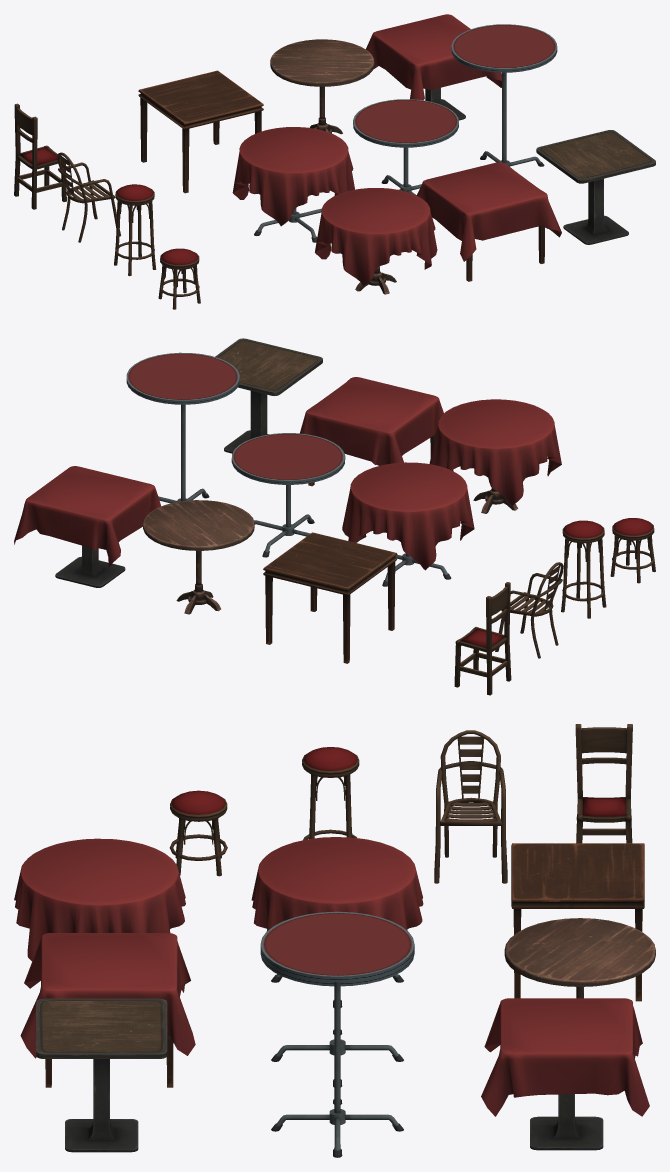
File: furniture_pack.glb
The picture shows the model from 3 angles, top to bottom: view 1: azimuth 30°, elevation 25°; view 2: azimuth 150°, elevation 25°; view 3: azimuth 270°, elevation 25°; orthographic projection. The views are drawn at different scales.
Visible parts, largest first — view 1: round_metal_table_cloth.smd_1, round_wooden_table_cloth.smd_4, square_wooden_table_cloth.smd_8, square_steel_table_cloth.smd_6, square_steel_table.smd_5, square_wooden_table.smd_7, round_metal_table_high.smd_2, round_metal_table.smd_0, round_wooden_table.smd_3, restaurant_chair.smd_9, restaurant_stool.smd_11, restaurant_chair01.smd_10 (+1 smaller); view 2: square_steel_table_cloth.smd_6, round_metal_table_cloth.smd_1, round_wooden_table_cloth.smd_4, square_wooden_table_cloth.smd_8, square_wooden_table.smd_7, round_metal_table.smd_0, round_metal_table_high.smd_2, round_wooden_table.smd_3, square_steel_table.smd_5, restaurant_chair.smd_9, restaurant_stool.smd_11, restaurant_chair01.smd_10 (+1 smaller); view 3: square_steel_table_cloth.smd_6, round_wooden_table_cloth.smd_4, round_metal_table_cloth.smd_1, square_wooden_table_cloth.smd_8, square_steel_table.smd_5, round_metal_table_high.smd_2, square_wooden_table.smd_7, round_wooden_table.smd_3, restaurant_chair01.smd_10, restaurant_chair.smd_9, restaurant_stool_short.smd_12, restaurant_stool.smd_11 (+1 smaller).
Part boxes in pixels (x1,y1,x2,y2): round_metal_table_cloth.smd_1: (232,127,354,242); round_wooden_table_cloth.smd_4: (315,188,437,294); square_wooden_table_cloth.smd_8: (416,162,561,281); square_steel_table_cloth.smd_6: (365,14,501,120); square_steel_table.smd_5: (536,130,655,244); square_wooden_table.smd_7: (138,70,263,193); round_metal_table_high.smd_2: (451,24,557,166); round_metal_table.smd_0: (353,99,458,195); round_wooden_table.smd_3: (270,39,374,134); restaurant_chair.smd_9: (14,103,66,209); restaurant_stool.smd_11: (114,184,156,276); restaurant_chair01.smd_10: (57,152,120,242); square_steel_table_cloth.smd_6: (14,466,161,587); round_metal_table_cloth.smd_1: (342,462,474,586); round_wooden_table_cloth.smd_4: (429,399,561,513); square_wooden_table_cloth.smd_8: (299,377,443,486); square_wooden_table.smd_7: (263,532,397,663); round_metal_table.smd_0: (231,433,345,557); round_metal_table_high.smd_2: (126,352,239,503); round_wooden_table.smd_3: (143,500,254,614); square_steel_table.smd_5: (215,338,322,453); restaurant_chair.smd_9: (454,582,511,695); restaurant_stool.smd_11: (561,520,606,618); restaurant_chair01.smd_10: (495,562,563,658); square_steel_table_cloth.smd_6: (481,998,649,1150); round_wooden_table_cloth.smd_4: (14,838,185,961); round_metal_table_cloth.smd_1: (251,837,423,1007); square_wooden_table_cloth.smd_8: (20,933,195,1087); square_steel_table.smd_5: (36,998,167,1152); round_metal_table_high.smd_2: (260,911,414,1157); square_wooden_table.smd_7: (511,843,644,1001); round_wooden_table.smd_3: (504,918,655,998); restaurant_chair01.smd_10: (434,730,507,883); restaurant_chair.smd_9: (575,724,632,843); restaurant_stool_short.smd_12: (169,790,227,876); restaurant_stool.smd_11: (302,747,359,840).
Bounding box in the file's own units: 5.17 × 1.42 × 4.41.
3 materials, 3 textured.
